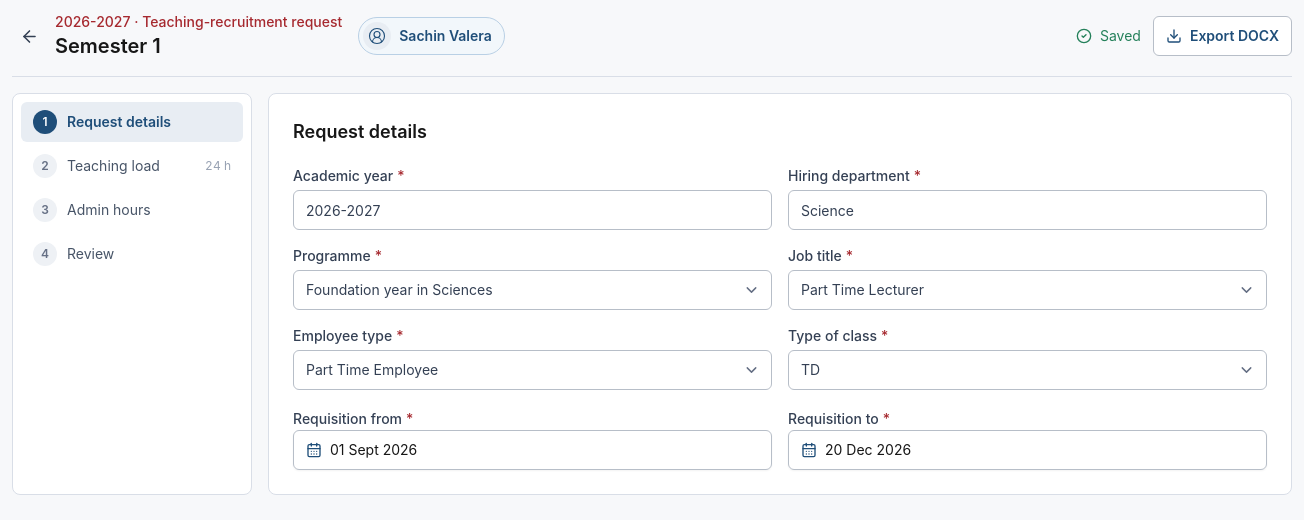
Test: TeacherRequisitionEditor › edits the requisition title inline and returns to text when focus leaves
Click the button "Semester 1" at point(108, 46), box 55,32 -> 161,60
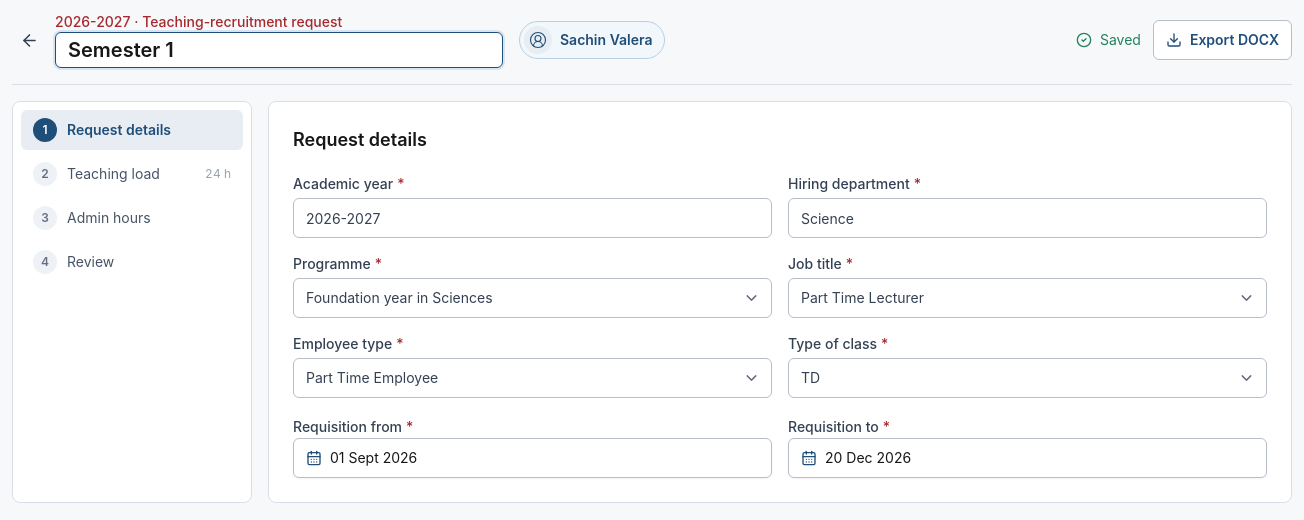
Replace the text in the field named "Requisition title" with "Semester 1 tutorial" at point(279, 50), box 55,32 -> 503,68
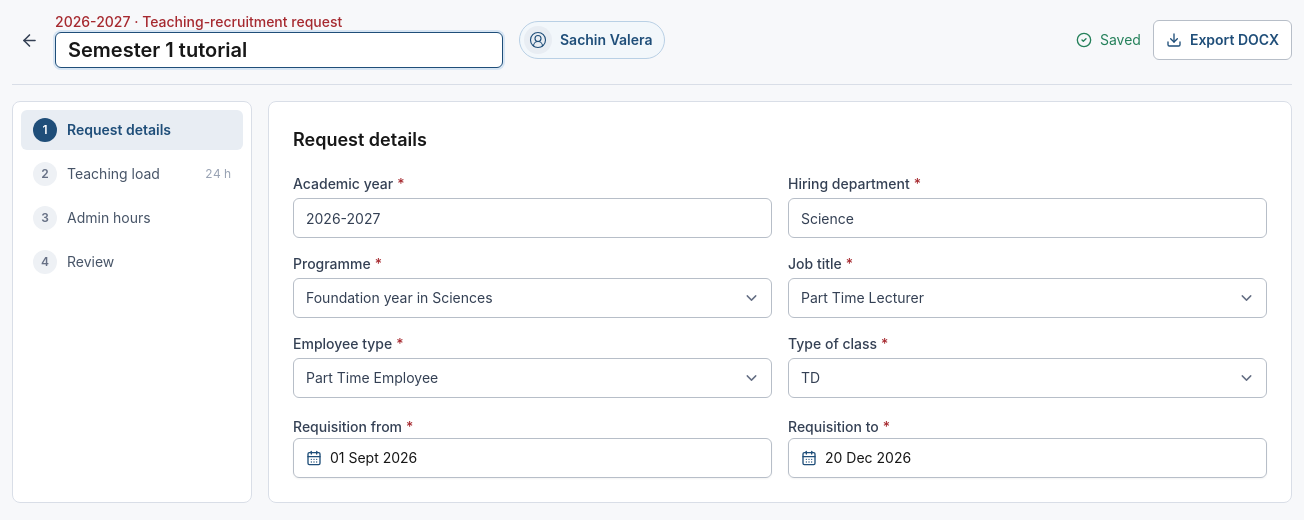
Leave the field named "Requisition title", box 55,32 -> 503,68
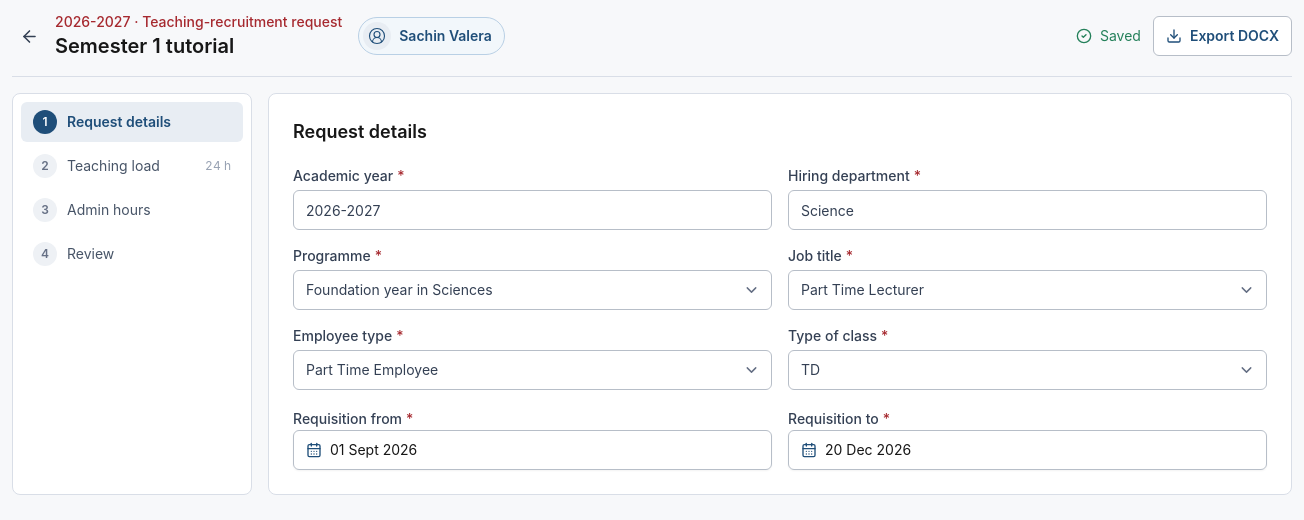
Expected: the field labelled "Requisition title" is not shown
Result: the button "Semester 1 tutorial" is shown at 55,32 -> 234,60
